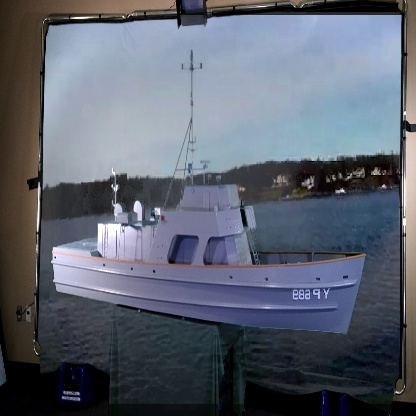YP689: (50, 48, 368, 338)
